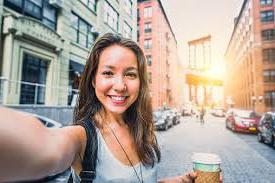face: (95, 45, 141, 113)
